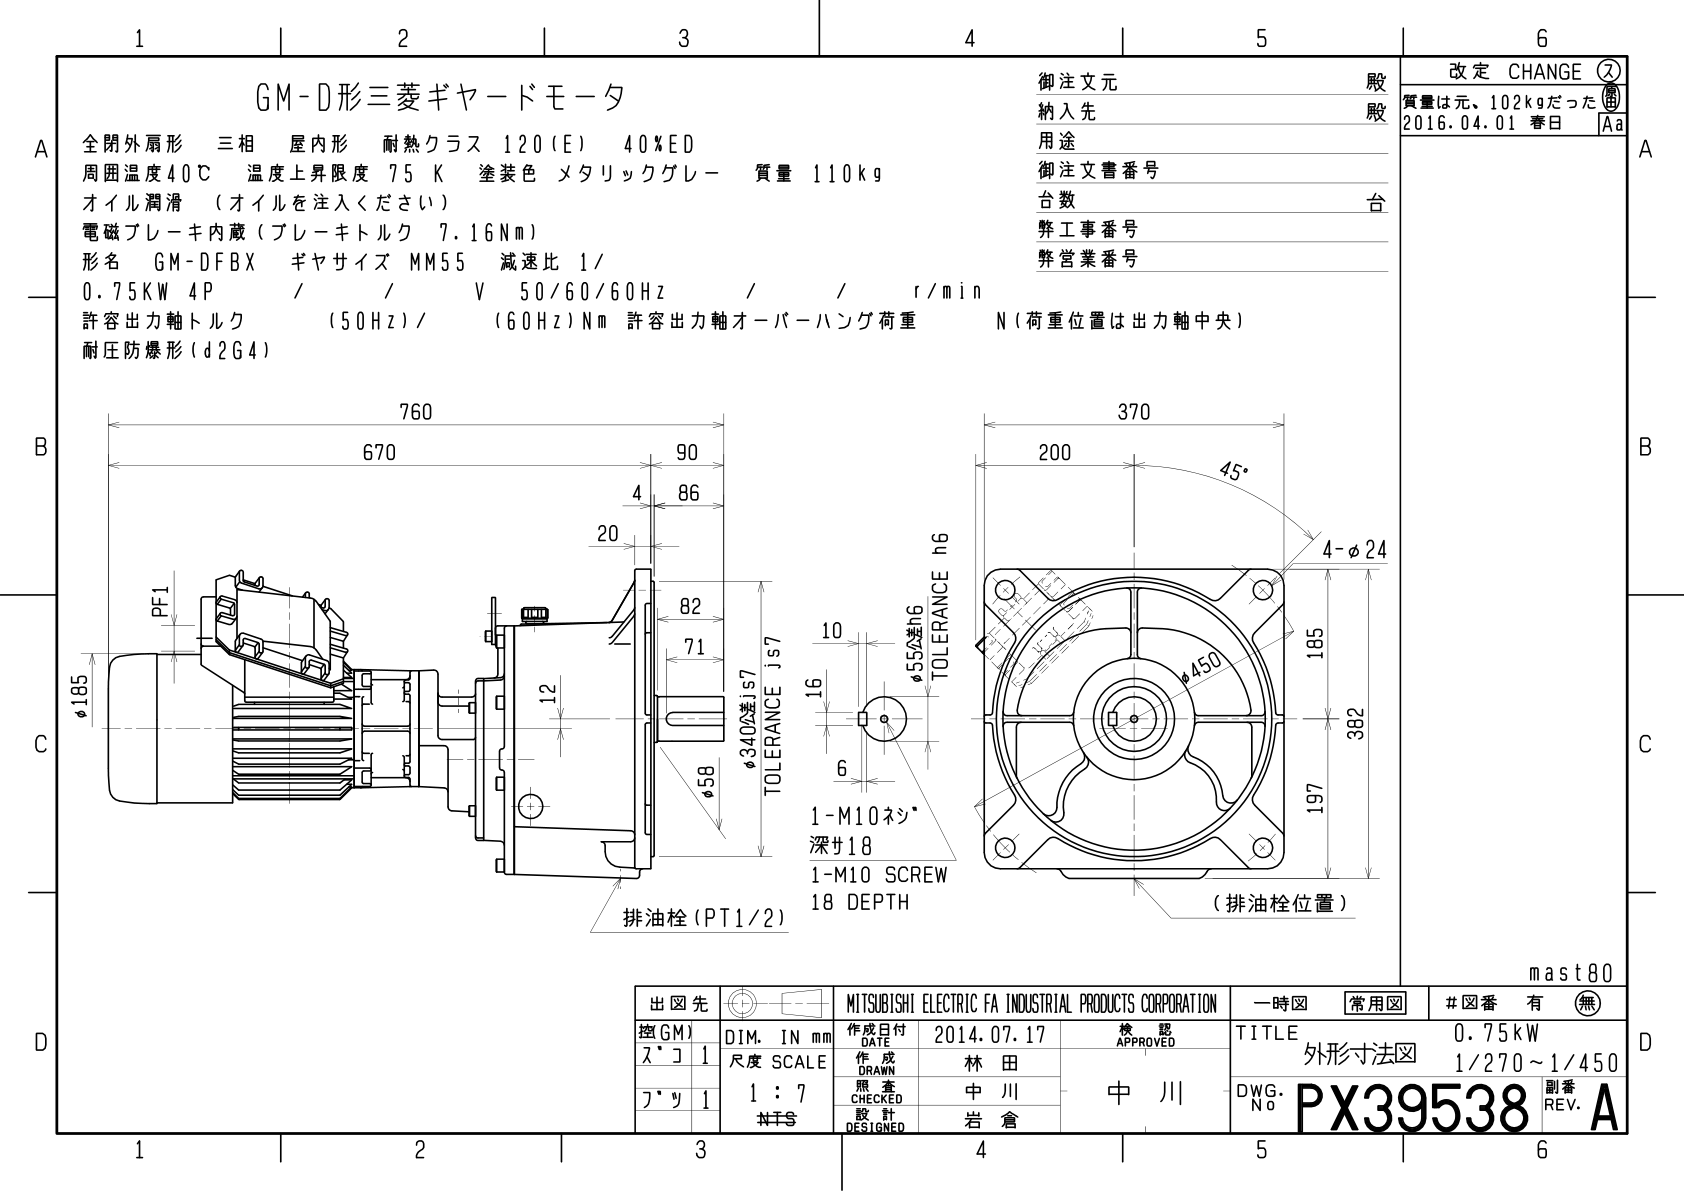GM_SP_屋内＿三相_フランジ: (61, 382, 1393, 959)
